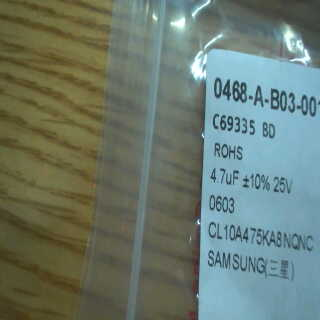4.7uF: (207, 166, 244, 188)
